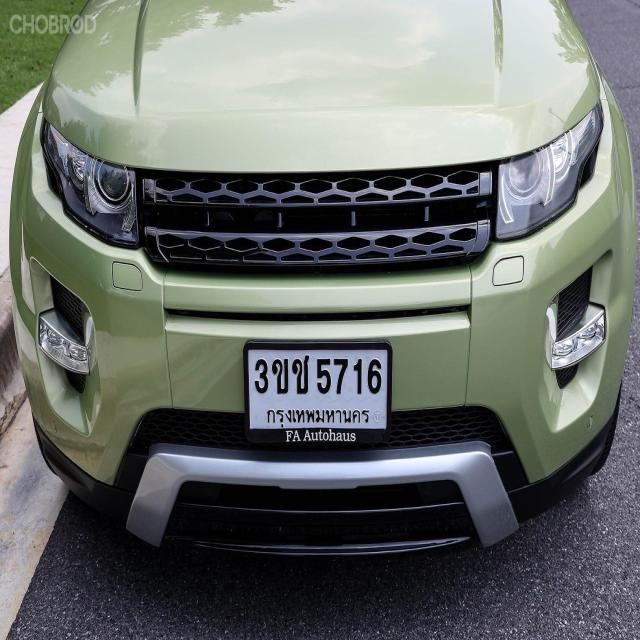license_plate: (243, 339, 393, 445)
